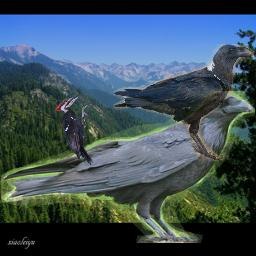Crow: (1, 91, 255, 243), (113, 44, 255, 161)
Woodpecker: (55, 93, 93, 166)
